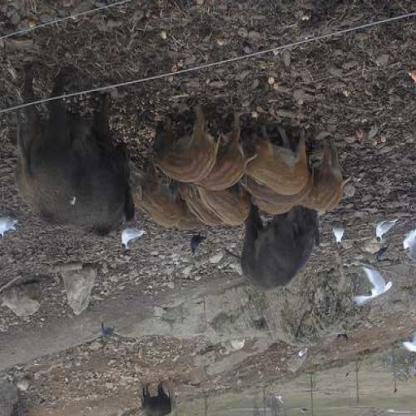boar: (9, 54, 148, 274), (232, 193, 319, 312), (242, 124, 319, 207), (163, 111, 215, 199), (191, 148, 250, 212), (309, 150, 368, 206), (187, 179, 235, 243), (143, 179, 177, 244)
